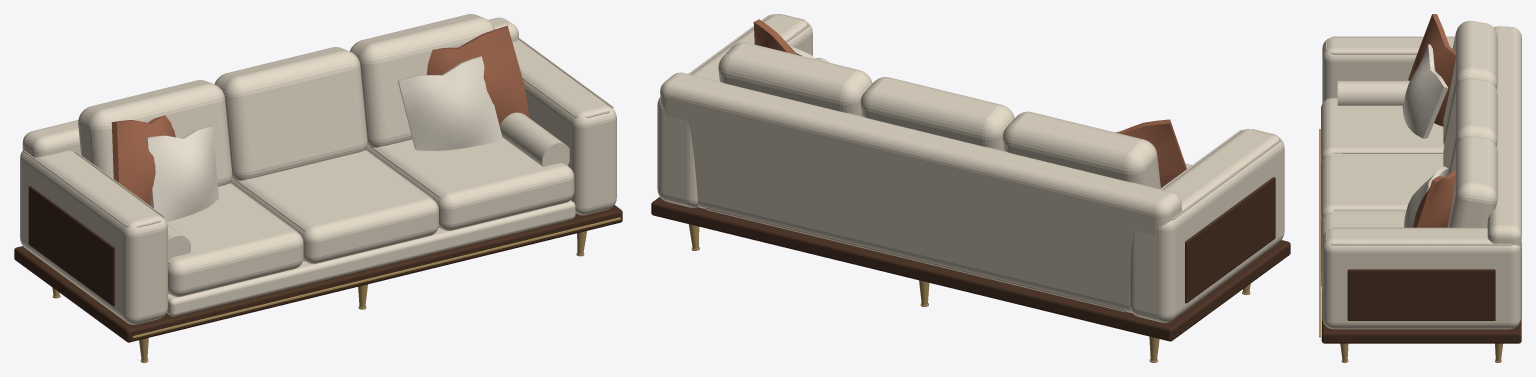
Rendered from milano-alabaster-3.glb.
3 views of the same model, side by side, from view 1: azimuth 30°, elevation 25°; view 2: azimuth 150°, elevation 25°; view 3: azimuth 270°, elevation 25° (orthographic). The views are drawn at different scales.
Size of the model in its own units: 2.2 by 0.8344 by 0.8932.
